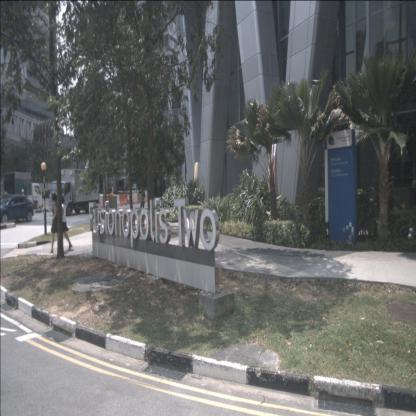barrier: (93, 194, 103, 209), (138, 190, 147, 202), (112, 195, 120, 206), (119, 194, 127, 204), (132, 193, 137, 204), (126, 194, 130, 204)
cone: (36, 201, 40, 211), (125, 198, 127, 206), (145, 196, 147, 202), (121, 198, 122, 207), (137, 197, 138, 204), (102, 203, 103, 209)
